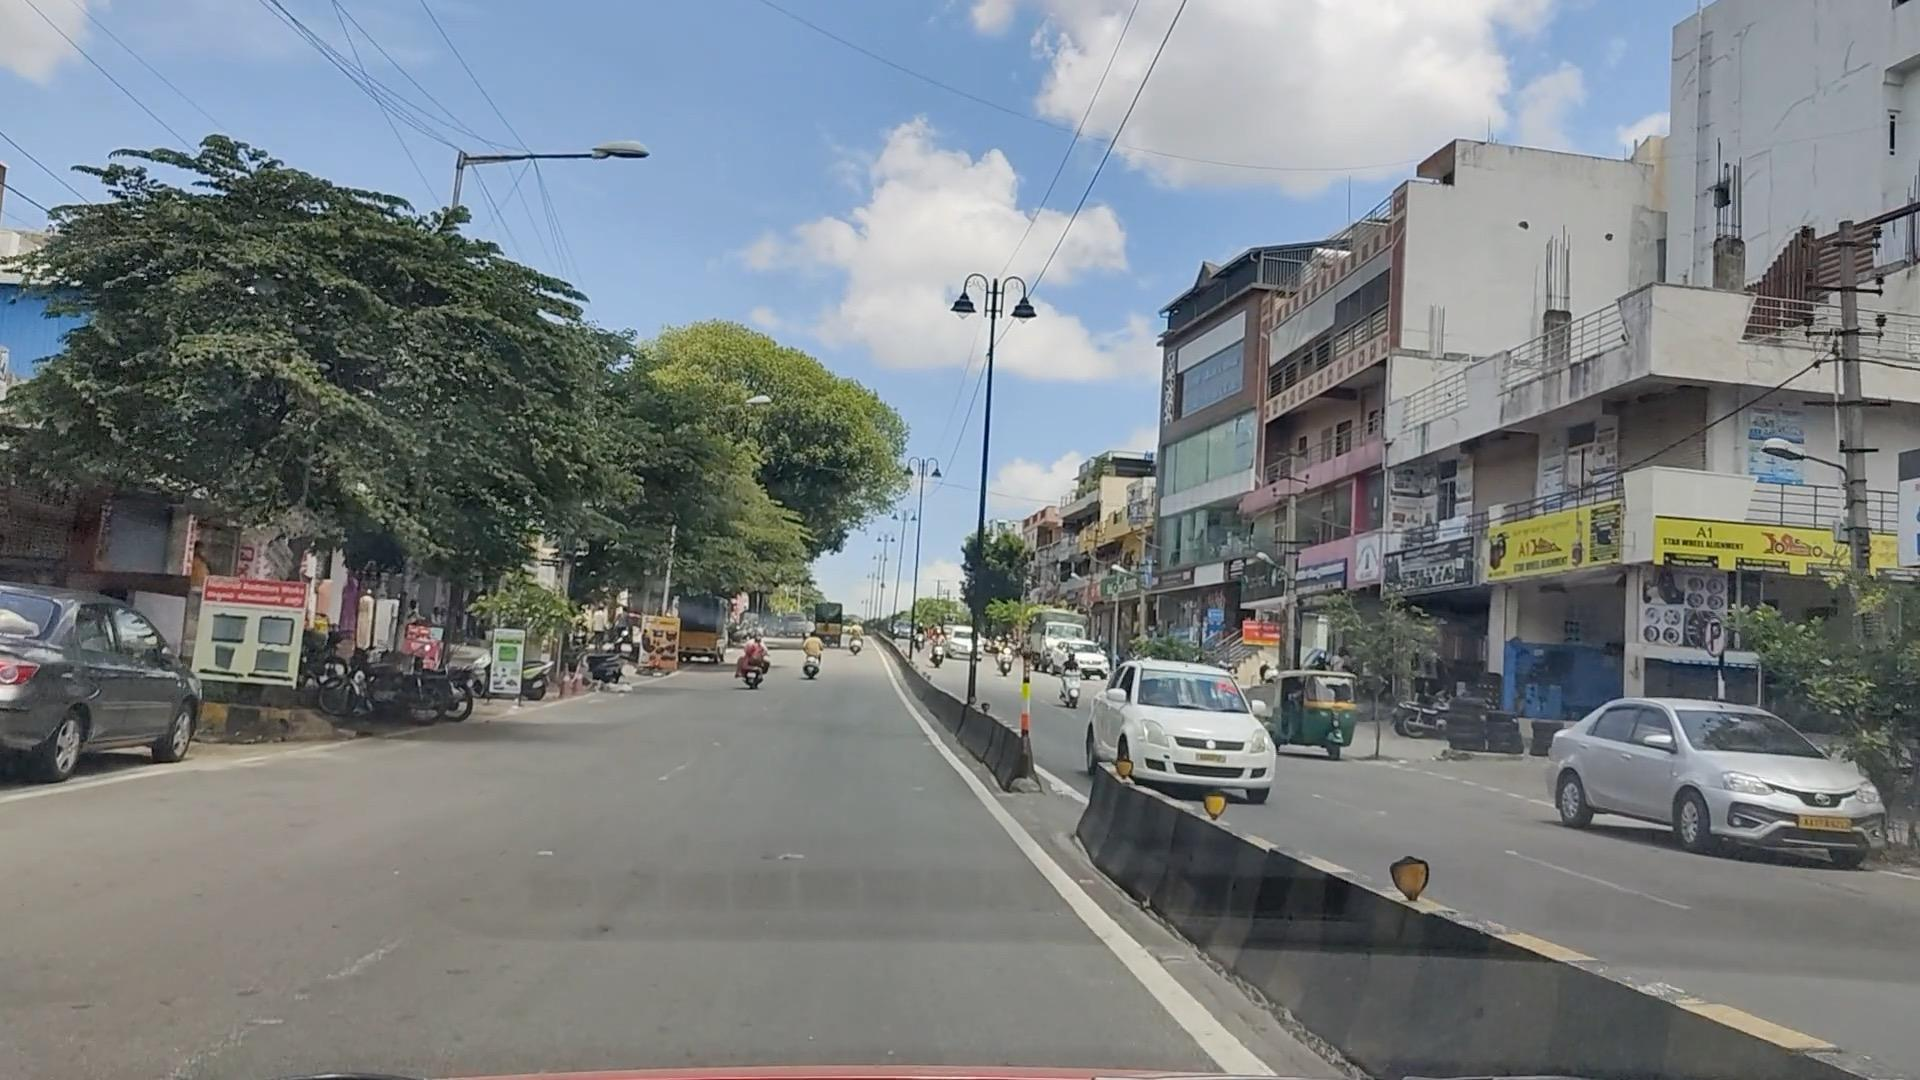LMV: (1093, 657, 1257, 802), (740, 630, 777, 684)
